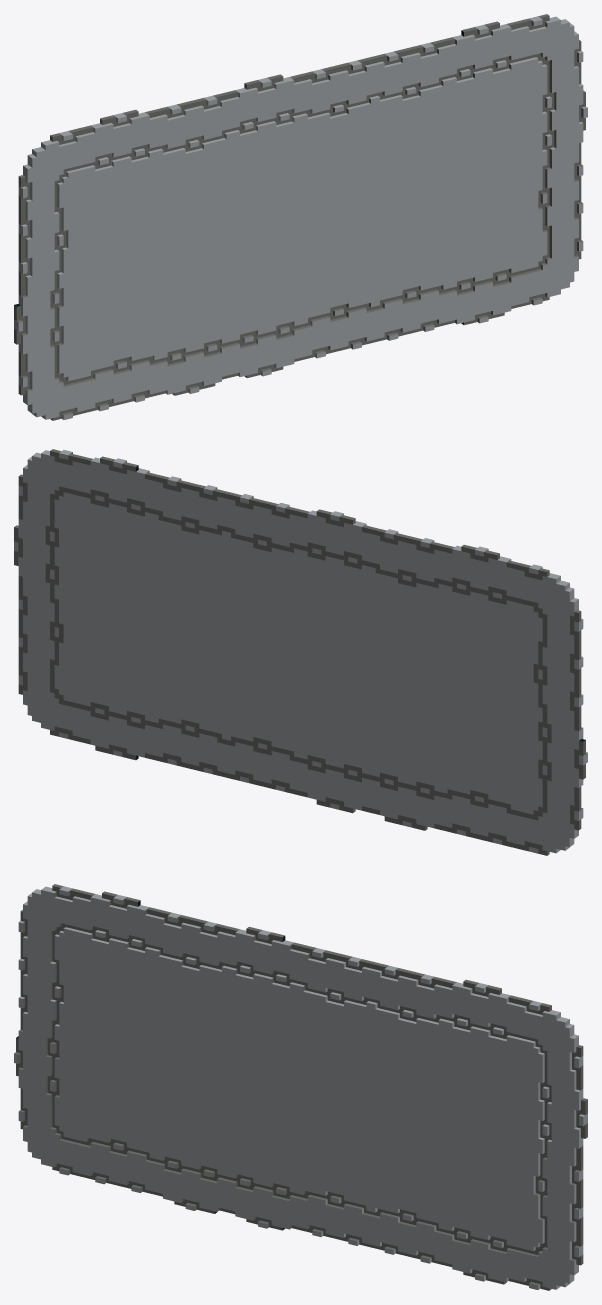
Rendered from billboard.glb.
3 renders of one model, top to bottom at view 1: azimuth 30°, elevation 25°; view 2: azimuth 150°, elevation 25°; view 3: azimuth 330°, elevation 25°, orthographic.
Visible parts, largest first — view 1: Grid; view 2: Grid; view 3: Grid.
Boxes of the visible parts, left/top/right/bottom form: Grid: left=14, top=14, right=587, bottom=420; Grid: left=14, top=449, right=587, bottom=855; Grid: left=14, top=884, right=587, bottom=1290.
Size of the model in its own units: 3.94 by 1.94 by 0.0556.
1 material, 1 textured.
